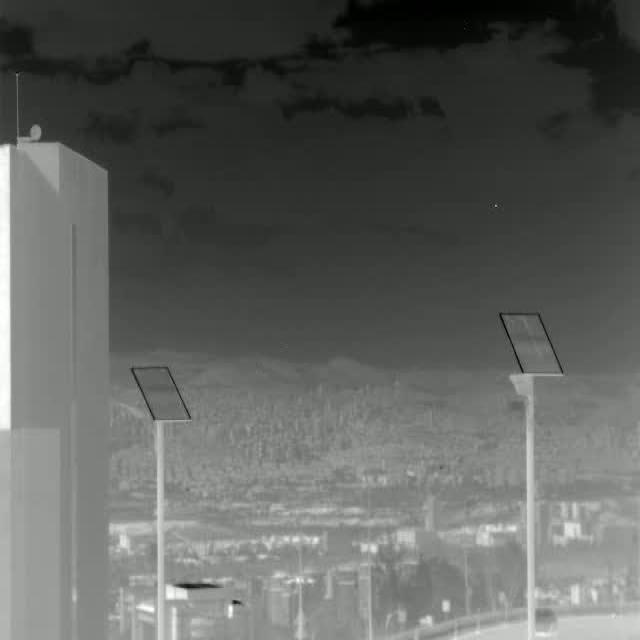Car: (536, 609, 559, 638)
